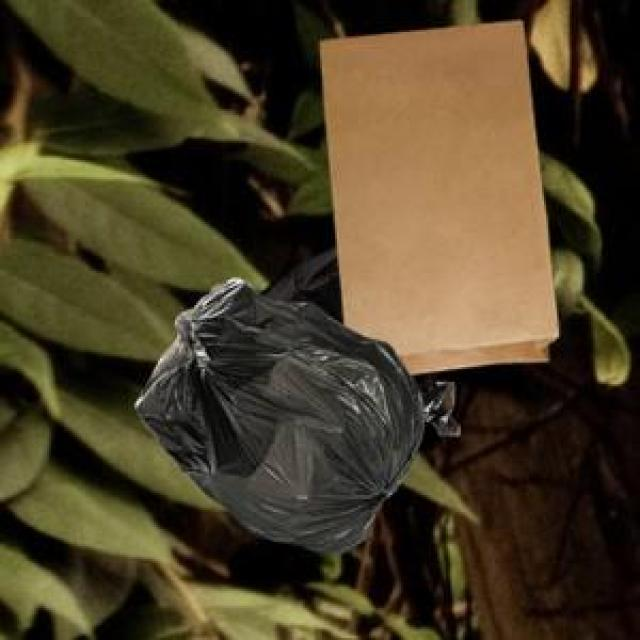miscellaneous trash: (132, 275, 418, 550), (256, 237, 454, 431)
paper: (316, 17, 555, 371)
